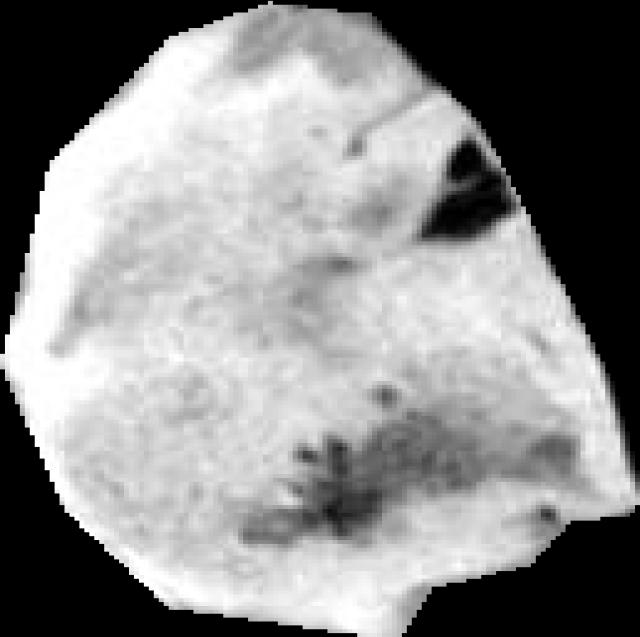tumor_moderate_chance: (0, 1, 640, 637)
